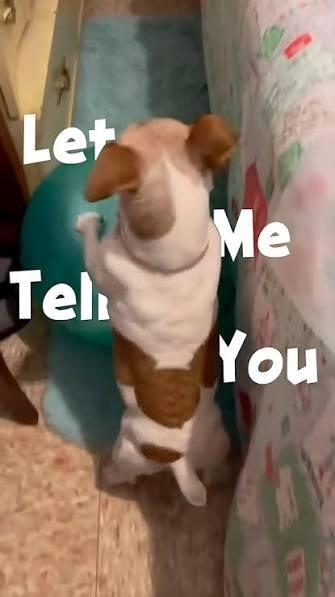adult_dog: (74, 109, 240, 510)
